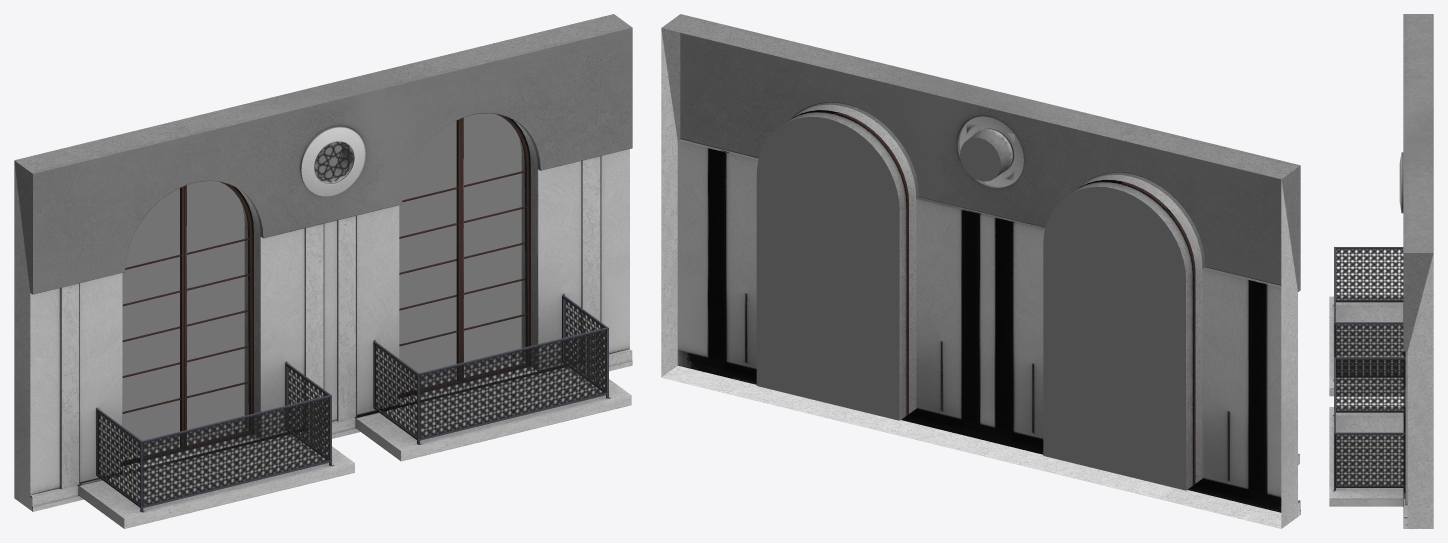
The model's file is floorsecond_3.glb.
The picture shows the model from 3 angles, left to right: view 1: azimuth 30°, elevation 25°; view 2: azimuth 150°, elevation 25°; view 3: azimuth 270°, elevation 25°; orthographic projection. The views are drawn at different scales.
Visible parts, largest first — view 1: floorsecond_3; view 2: floorsecond_3; view 3: floorsecond_3.
Part boxes in pixels (x1=…): floorsecond_3: x1=14, y1=14, x2=632, y2=528; floorsecond_3: x1=661, y1=14, x2=1300, y2=528; floorsecond_3: x1=1329, y1=14, x2=1433, y2=528.
Size of the model in its own units: 6.5 by 3.5 by 1.2.
Materials: 3 (2 with a texture image).
